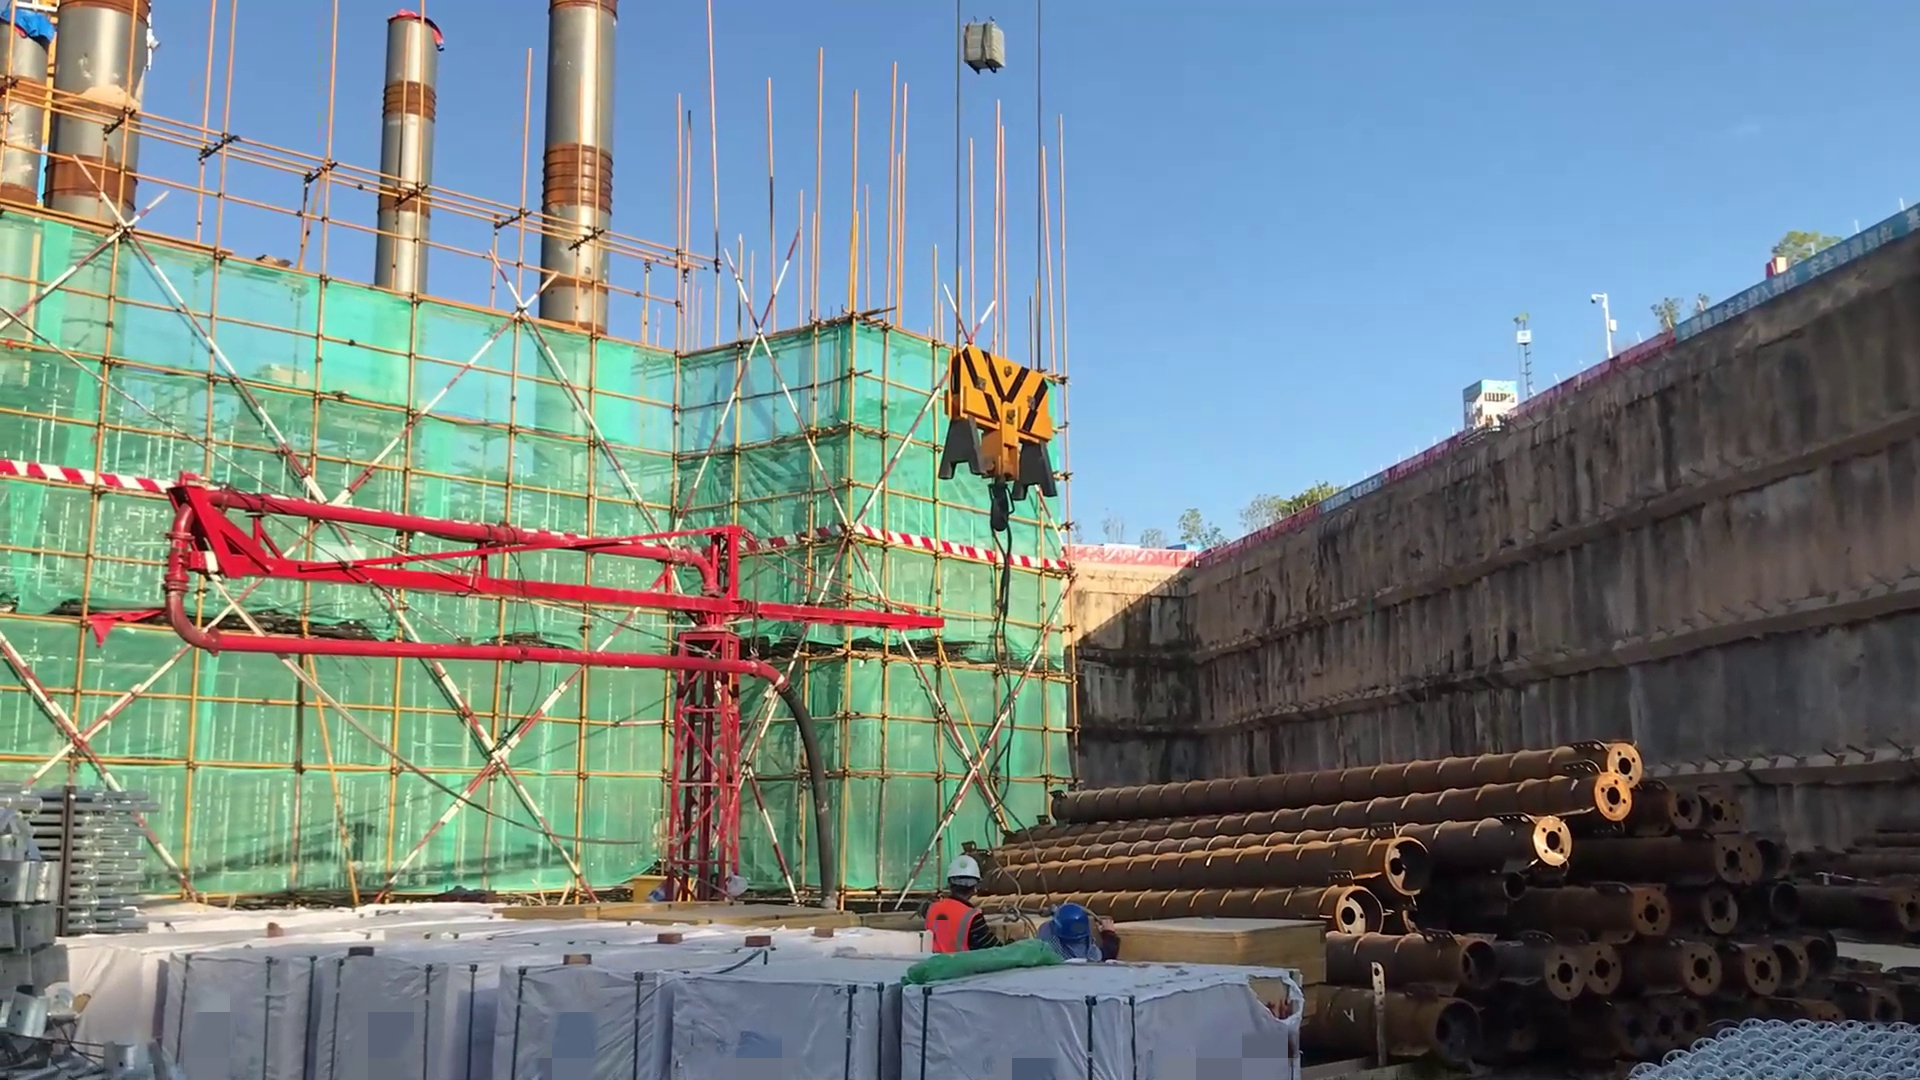board: (1093, 905, 1326, 995)
ebox: (625, 870, 701, 909)
helmet: (942, 852, 983, 906), (1054, 901, 1096, 949)
hook: (925, 349, 1084, 532)
person: (1021, 890, 1150, 993), (915, 843, 1003, 986)
scaffold: (26, 788, 152, 921)
slogan: (1676, 206, 1920, 366), (1318, 464, 1388, 519)
vest: (927, 894, 985, 966)
